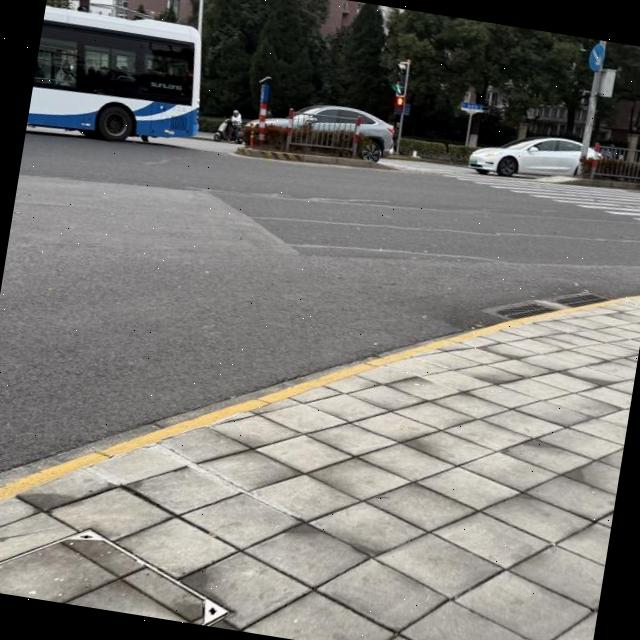curb: (0, 296, 640, 502), (234, 148, 397, 168), (535, 177, 640, 192)
